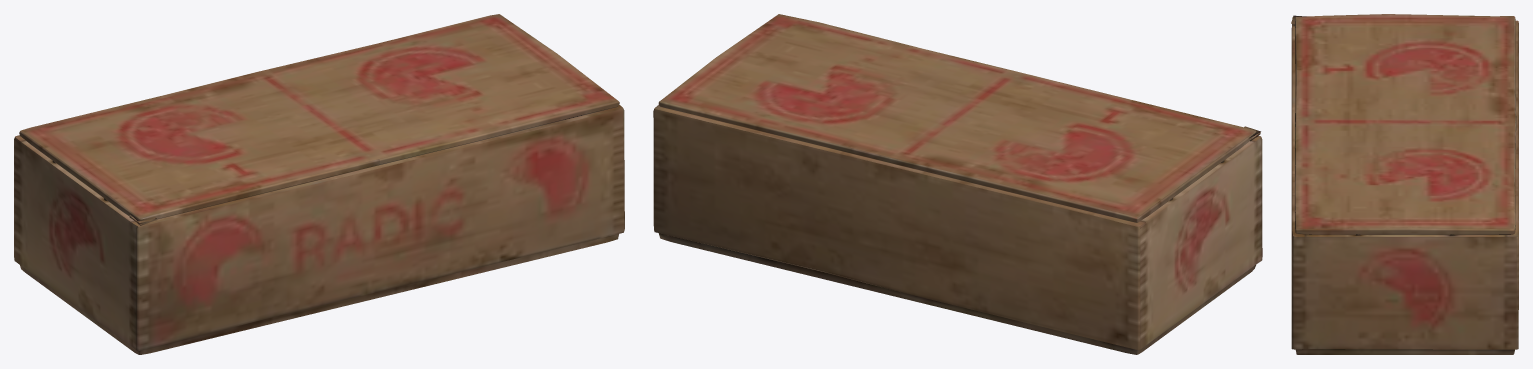
The model's file is CheeseBox_01.glb.
3 renders of one model, left to right at view 1: azimuth 30°, elevation 25°; view 2: azimuth 150°, elevation 25°; view 3: azimuth 270°, elevation 25°, orthographic. The views are drawn at different scales.
Visible parts, largest first — view 1: CheeseBox_01; view 2: CheeseBox_01; view 3: CheeseBox_01.
Part boxes in pixels (x1,y1,x2,y2): CheeseBox_01: (14,14,624,354); CheeseBox_01: (653,14,1262,354); CheeseBox_01: (1291,14,1518,354).
Size of the model in its own units: 0.2404 by 0.066 by 0.1066.
Materials: 1 (1 with a texture image).
